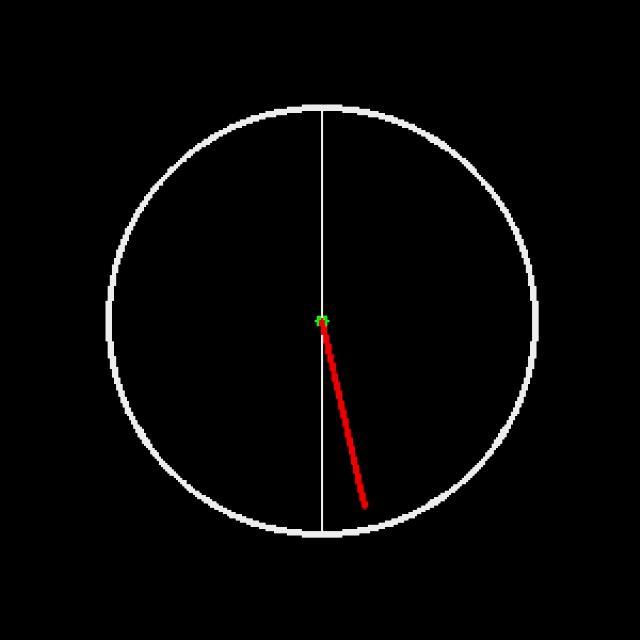Needle_Tip: (329, 462, 392, 525)
Needle_base: (289, 269, 356, 364)
